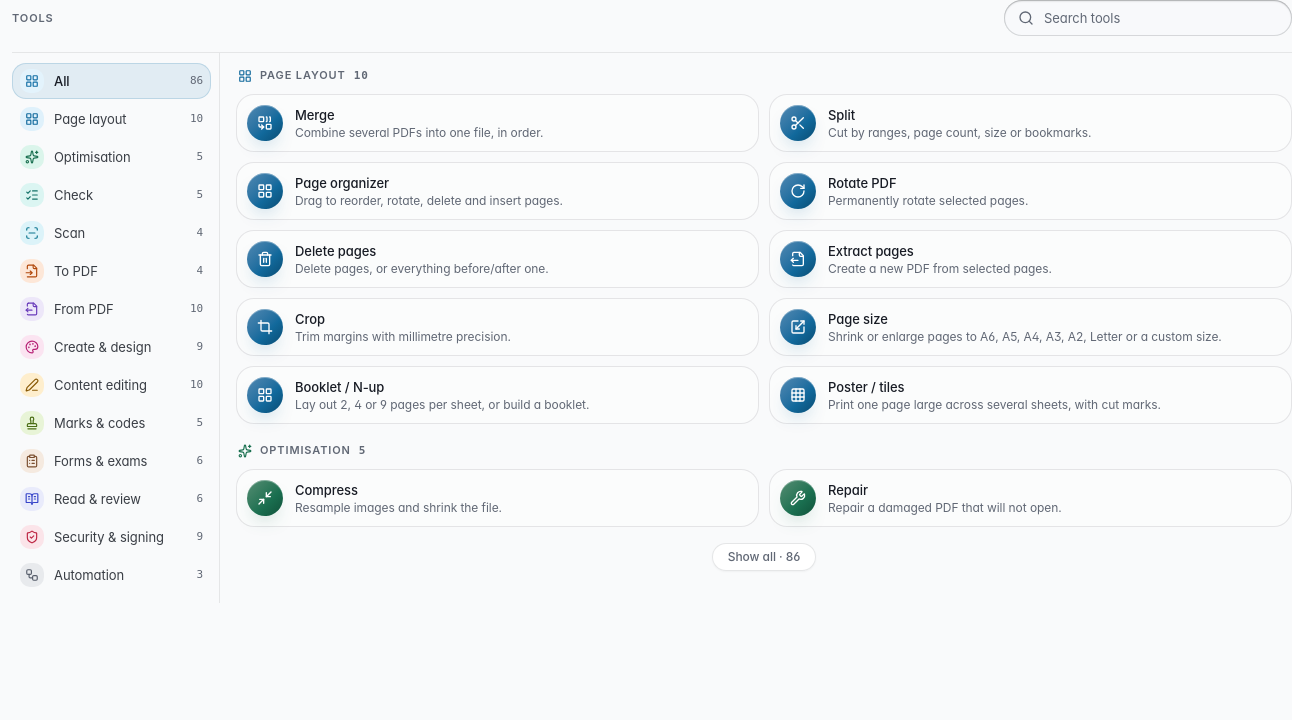
Test: ToolBrowser catalogue › lists every category with its count in the side rail and shows one category's tools
Click the button "Check 5": (112, 195) [12,177,211,213]
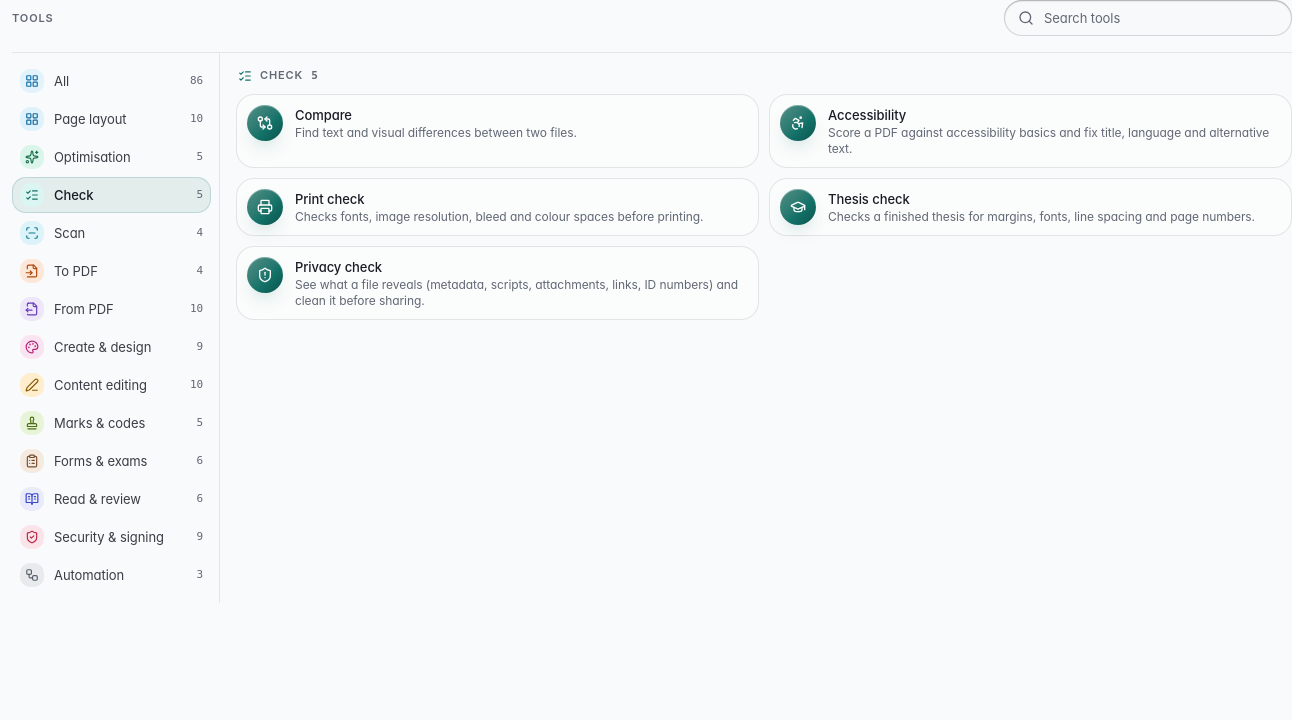
Expected: the button "All 86" is shown, [12,63,211,99]
Expected: the 1st text "Check" is shown, [260,65,303,86]
Expected: the button "Show all" is gone
